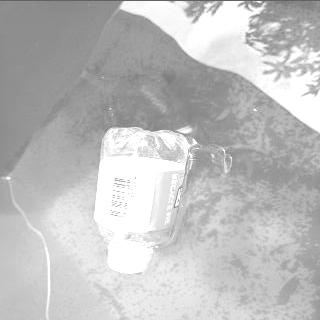bottle: (86, 124, 192, 274)
